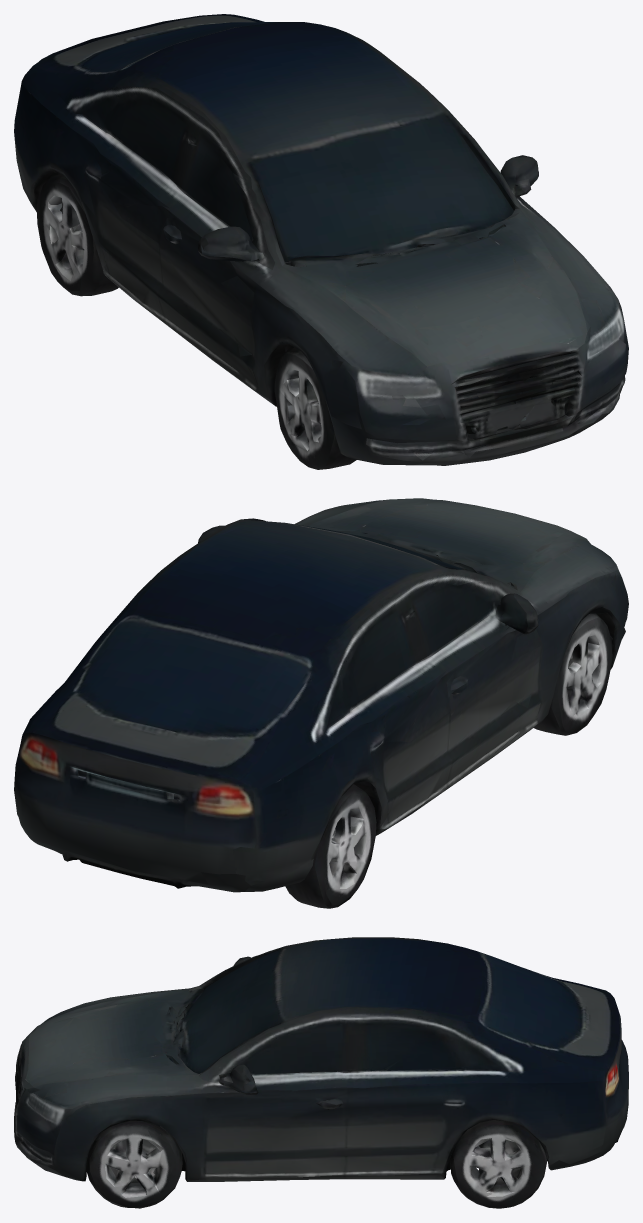
File: sedan.glb
3 renders of one model, top to bottom at view 1: azimuth 30°, elevation 25°; view 2: azimuth 150°, elevation 25°; view 3: azimuth 270°, elevation 25°, orthographic. The views are drawn at different scales.
Visible parts, largest first — view 1: world; view 2: world; view 3: world.
Boxes of the visible parts, x1,y1,x2,y2 form: world: (14, 14, 628, 469); world: (14, 498, 628, 908); world: (14, 937, 628, 1208).
Size of the model in its own units: 5.14 by 3.59 by 10.56.
1 material, 1 textured.
